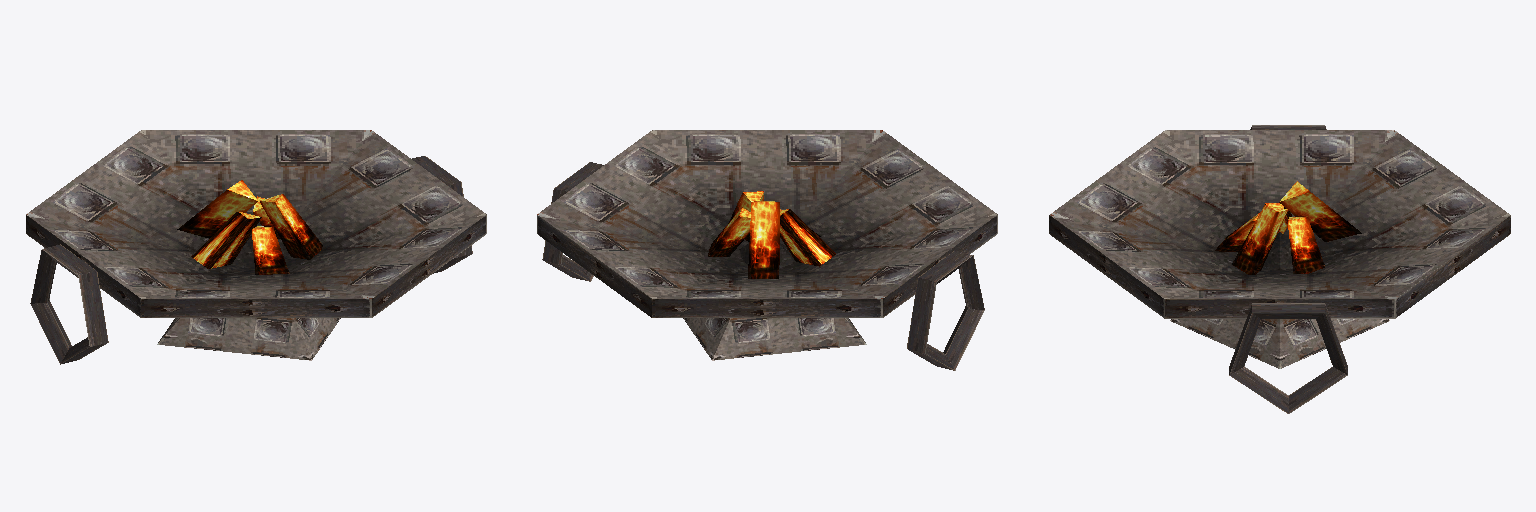
The picture shows the model from 3 angles: view 1: azimuth 30°, elevation 25°; view 2: azimuth 150°, elevation 25°; view 3: azimuth 270°, elevation 25°; orthographic projection.
Visible parts, largest first — view 1: stormwindbrazier01.m2; view 2: stormwindbrazier01.m2; view 3: stormwindbrazier01.m2.
Boxes of the visible parts, <box> form: stormwindbrazier01.m2: <box>26,130,486,364</box>; stormwindbrazier01.m2: <box>537,130,997,370</box>; stormwindbrazier01.m2: <box>1049,125,1510,413</box>.
Bounding box in the file's own units: 2.22 × 0.7213 × 2.32.
Materials: 2 (2 with a texture image).